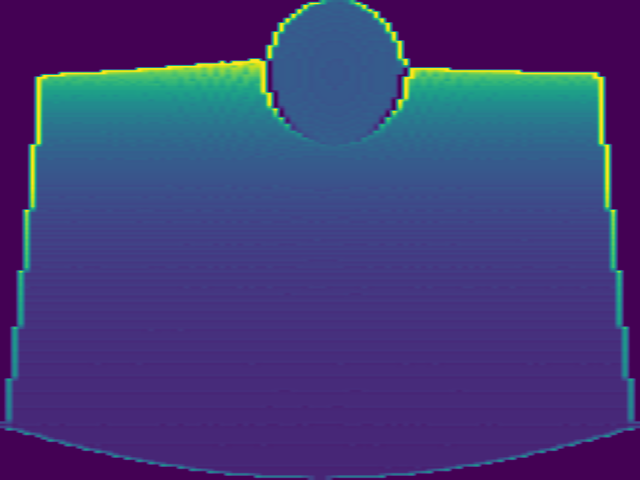sphere: (265, 3, 412, 148)
